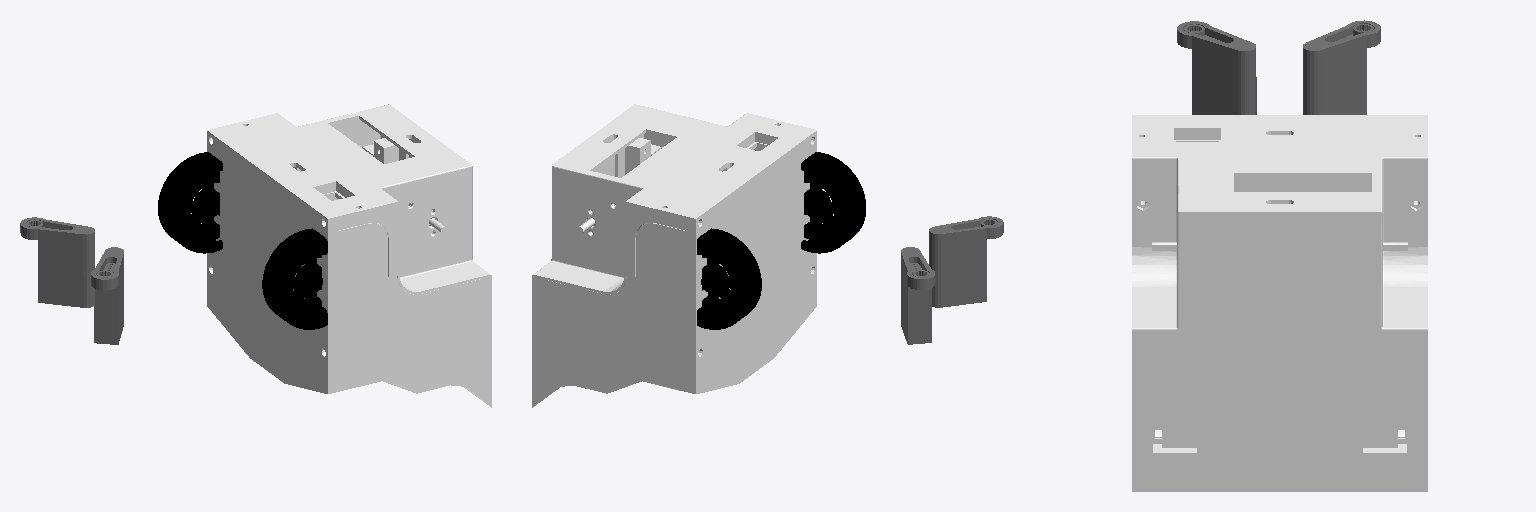
robot.urdf — futbol_robot:
<?xml version="1.0"?>
<robot name="futbol_robot">

  <!-- BASE FOOTPRINT — correccion de orientacion SolidWorks -->
  <link name="base_footprint"/>

  <joint name="base_footprint_joint" type="fixed">
    <parent link="base_footprint"/>
    <child link="base_link"/>
    <origin xyz="0 0 0.081" rpy="0 0 1.5707963"/>
  </joint>

  <!-- BASE LINK -->
  <link name="base_link">
    <inertial>
      <origin xyz="-0.00022154 0.045716 0.037877" rpy="0 0 0"/>
      <mass value="0.31147"/>
      <inertia
        ixx="0.000292"
        ixy="-5.6539E-07"
        ixz="2.3206E-07"
        iyy="0.00035947"
        iyz="2.634E-05"
        izz="0.00053514"/>
    </inertial>
    <visual>
      <origin xyz="0 0 0" rpy="0 0 0"/>
      <geometry>
        <mesh filename="package://futbol_robot/meshes/base_link.STL"/>
      </geometry>
      <material name="white">
        <color rgba="1 1 1 1"/>
      </material>
    </visual>
    <collision>
      <origin xyz="0 0 0" rpy="0 0 0"/>
      <geometry>
        <mesh filename="package://futbol_robot/meshes/base_link.STL"/>
      </geometry>
    </collision>
  </link>

  <!-- RUEDA DERECHA -->
  <link name="ruedader_Link">
    <inertial>
      <origin xyz="5.3029E-07 3.9035E-05 -0.0039798" rpy="0 0 0"/>
      <mass value="0.0090011"/>
      <inertia
        ixx="1.1903E-06"
        ixy="2.8886E-13"
        ixz="2.5984E-12"
        iyy="1.1903E-06"
        iyz="-8.2999E-12"
        izz="2.178E-06"/>
    </inertial>
    <visual>
      <origin xyz="0 0 0" rpy="0 0 0"/>
      <geometry>
        <mesh filename="package://futbol_robot/meshes/ruedader_Link.STL"/>
      </geometry>
      <material name="black">
        <color rgba="0.0 0.0 0.0 1"/>
      </material>
    </visual>
    <collision>
      <origin xyz="0 0 0" rpy="0 0 0"/>
      <geometry>
        <mesh filename="package://futbol_robot/meshes/ruedader_Link.STL"/>
      </geometry>
    </collision>
  </link>

  <joint name="ruedader_joint" type="continuous">
    <origin xyz="0.0465 0.0036812 0.013458" rpy="1.5708 0 1.5708"/>
    <parent link="base_link"/>
    <child link="ruedader_Link"/>
    <axis xyz="0 0 -1"/>
  </joint>

  <!-- RUEDA IZQUIERDA -->
  <link name="ruedaizq_Link">
    <inertial>
      <origin xyz="5.3029E-07 3.9035E-05 -0.0039798" rpy="0 0 0"/>
      <mass value="0.0090011"/>
      <inertia
        ixx="1.1903E-06"
        ixy="2.8886E-13"
        ixz="2.5984E-12"
        iyy="1.1903E-06"
        iyz="-8.2999E-12"
        izz="2.178E-06"/>
    </inertial>
    <visual>
      <origin xyz="0 0 0" rpy="0 0 0"/>
      <geometry>
        <mesh filename="package://futbol_robot/meshes/ruedaizq_Link.STL"/>
      </geometry>
      <material name="black">
        <color rgba="0.0 0.0 0.0 1"/>
      </material>
    </visual>
    <collision>
      <origin xyz="0 0 0" rpy="0 0 0"/>
      <geometry>
        <mesh filename="package://futbol_robot/meshes/ruedaizq_Link.STL"/>
      </geometry>
    </collision>
  </link>

  <joint name="ruedaizq_joint" type="continuous">
    <origin xyz="-0.0465 0.0036812 0.013458" rpy="1.5708 0 -1.5708"/>
    <parent link="base_link"/>
    <child link="ruedaizq_Link"/>
    <axis xyz="0 0 1"/>
  </joint>

  <!-- SERVO DERECHO -->
  <link name="servoder_Link">
    <inertial>
      <origin xyz="0.010446 0.0090603 0.011116" rpy="0 0 0"/>
      <mass value="0.0062162"/>
      <inertia
        ixx="6.8909E-07"
        ixy="-1.2721E-07"
        ixz="-2.8733E-08"
        iyy="7.2541E-07"
        iyz="-2.4923E-08"
        izz="3.4005E-07"/>
    </inertial>
    <visual>
      <origin xyz="0 0 0" rpy="0 0 0"/>
      <geometry>
        <mesh filename="package://futbol_robot/meshes/servoder_Link.STL"/>
      </geometry>
      <material name="grey">
        <color rgba="0.5 0.5 0.5 1"/>
      </material>
    </visual>
    <collision>
      <origin xyz="0 0 0" rpy="0 0 0"/>
      <geometry>
        <mesh filename="package://futbol_robot/meshes/servoder_Link.STL"/>
      </geometry>
    </collision>
  </link>

  <joint name="servoder_joint" type="fixed">
    <origin xyz="0.028374 0.093324 0.026131" rpy="-3.1416 -0.0020221 -1.7"/>
    <parent link="base_link"/>
    <child link="servoder_Link"/>
  </joint>

  <!-- SERVO IZQUIERDO — espejo del derecho -->
  <link name="servoizq_Link">
    <inertial>
      <origin xyz="0.010446 0.0090603 0.011116" rpy="0 0 0"/>
      <mass value="0.0062162"/>
      <inertia
        ixx="6.8909E-07"
        ixy="-1.2721E-07"
        ixz="-2.8733E-08"
        iyy="7.2541E-07"
        iyz="-2.4923E-08"
        izz="3.4005E-07"/>
    </inertial>
    <visual>
      <origin xyz="0 0 0" rpy="0 0 0"/>
      <geometry>
        <mesh filename="package://futbol_robot/meshes/servoizq_Link.STL"/>
      </geometry>
      <material name="grey">
        <color rgba="0.5 0.5 0.5 1"/>
      </material>
    </visual>
    <collision>
      <origin xyz="0 0 0" rpy="0 0 0"/>
      <geometry>
        <mesh filename="package://futbol_robot/meshes/servoizq_Link.STL"/>
      </geometry>
    </collision>
  </link>

  <joint name="servoizq_joint" type="fixed">
    <origin xyz="-0.029099 0.092707 0.026132" rpy="-3.1416 -0.0020221 0.75"/>
    <parent link="base_link"/>
    <child link="servoizq_Link"/>
  </joint>

  <!-- PLUGIN GAZEBO DIFF DRIVE -->
  <gazebo>
    <plugin name="diff_drive_controller" filename="libgazebo_ros_diff_drive.so">
      <ros>
        <namespace>/futbol</namespace>
        <remapping>cmd_vel:=cmd_vel</remapping>
        <remapping>odom:=odom</remapping>
      </ros>
      <left_joint>ruedader_joint</left_joint>
      <right_joint>ruedaizq_joint</right_joint>
      <wheel_separation>0.093</wheel_separation>
      <wheel_diameter>0.042</wheel_diameter>
      <max_wheel_torque>50</max_wheel_torque>
      <max_wheel_acceleration>20.0</max_wheel_acceleration>
      <publish_odom>true</publish_odom>
      <publish_odom_tf>true</publish_odom_tf>
      <publish_wheel_tf>true</publish_wheel_tf>
      <odometry_frame>odom</odometry_frame>
      <robot_base_frame>base_footprint</robot_base_frame>
    </plugin>
  </gazebo>

  <!-- MATERIALES GAZEBO -->
  <gazebo reference="base_link">
    <material>Gazebo/White</material>
    <mu1>0.05</mu1>
    <mu2>0.05</mu2>
  </gazebo>
  <gazebo reference="ruedader_Link">
    <material>Gazebo/Black</material>
    <mu1>2.0</mu1>
    <mu2>2.0</mu2>
    <kp>1000000.0</kp>
    <kd>1.0</kd>
    <minDepth>0.001</minDepth>
  </gazebo>
  <gazebo reference="ruedaizq_Link">
    <material>Gazebo/Black</material>
    <mu1>2.0</mu1>
    <mu2>2.0</mu2>
    <kp>1000000.0</kp>
    <kd>1.0</kd>
    <minDepth>0.001</minDepth>
  </gazebo>
  <gazebo reference="servoder_Link">
    <selfCollide>false</selfCollide>
    <material>Gazebo/Grey</material>
  </gazebo>
  <gazebo reference="servoizq_Link">
    <selfCollide>false</selfCollide>
    <material>Gazebo/Grey</material>
  </gazebo>
    <!-- Plugin para publicar estados de joints -->
  <gazebo>
    <plugin name="gazebo_ros_joint_state_publisher" 
            filename="libgazebo_ros_joint_state_publisher.so">
      <ros>
        <namespace>/futbol</namespace>
      </ros>
      <update_rate>50</update_rate>
      <joint_name>ruedader_joint</joint_name>
      <joint_name>ruedaizq_joint</joint_name>
      <joint_name>servoder_joint</joint_name>
      <joint_name>servoizq_joint</joint_name>
    </plugin>
  </gazebo>

</robot>

--- Render facts (derived) ---
Views: 3 orthographic renders of the robot side by side, from view 1: azimuth 30°, elevation 25°; view 2: azimuth 150°, elevation 25°; view 3: azimuth 270°, elevation 25°.
Robot: futbol_robot — 6 links, 5 joints (2 continuous, 3 fixed); root link base_footprint; default pose: all joints at 0.
Links seen in each view (by area): view 1: base_link, servoder_Link, ruedader_Link, ruedaizq_Link, servoizq_Link; view 2: base_link, ruedaizq_Link, servoizq_Link, ruedader_Link, servoder_Link; view 3: base_link, servoizq_Link, servoder_Link.
Boxes of the visible links, x1,y1,x2,y2 form: base_link: (207,104,491,407); servoder_Link: (20,217,94,307); ruedader_Link: (158,152,222,253); ruedaizq_Link: (262,228,327,329); servoizq_Link: (91,247,123,344); base_link: (532,104,816,407); ruedaizq_Link: (801,152,865,253); servoizq_Link: (929,216,1003,307); ruedader_Link: (697,228,761,329); servoder_Link: (901,247,935,344); base_link: (1132,115,1427,491); servoizq_Link: (1177,21,1256,114); servoder_Link: (1303,20,1380,114).
Size in the robot's own frame: 0.1748 by 0.098 by 0.102 metres.
Meshes: 5 distinct files referenced, 5 mesh visuals loaded (5 binary STL).
